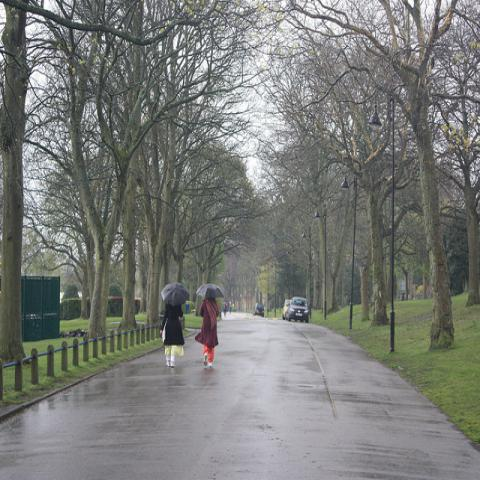car: (286, 297, 309, 323), (283, 299, 291, 318), (255, 302, 264, 316)
